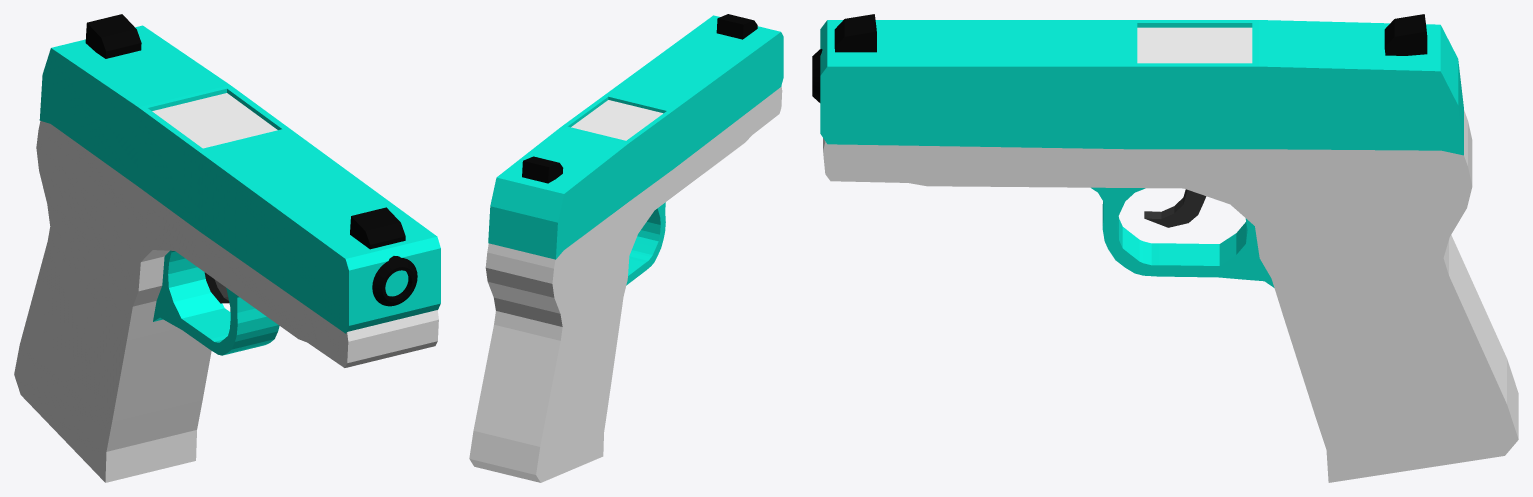
File: _istole.fbx
3 renders of one model, left to right at view 1: azimuth 30°, elevation 25°; view 2: azimuth 150°, elevation 25°; view 3: azimuth 270°, elevation 25°, orthographic. The views are drawn at different scales.
Visible parts, largest first — view 1: Cube, Cube.001, Cube.002, Cube.005, Cube.004, Cylinder; view 2: Cube, Cube.001, Cube.002, Cube.005, Cube.004; view 3: Cube, Cube.001, Cube.002, Cube.005, Cube.004, Cube.003.
Part boxes in pixels (<box>): Cube: <box>14,121,438,482</box>; Cube.001: <box>39,25,440,333</box>; Cube.002: <box>153,250,279,355</box>; Cube.005: <box>85,14,141,58</box>; Cube.004: <box>350,207,405,249</box>; Cylinder: <box>372,256,417,306</box>; Cube: <box>469,86,782,482</box>; Cube.001: <box>488,15,783,259</box>; Cube.002: <box>626,202,665,285</box>; Cube.005: <box>522,156,563,183</box>; Cube.004: <box>716,14,757,39</box>; Cube: <box>823,110,1518,482</box>; Cube.001: <box>820,20,1463,155</box>; Cube.002: <box>1091,187,1274,287</box>; Cube.005: <box>1384,14,1427,55</box>; Cube.004: <box>834,14,876,52</box>; Cube.003: <box>1144,189,1206,227</box>.
Size of the model in its own units: 63.11 by 275 by 404.
